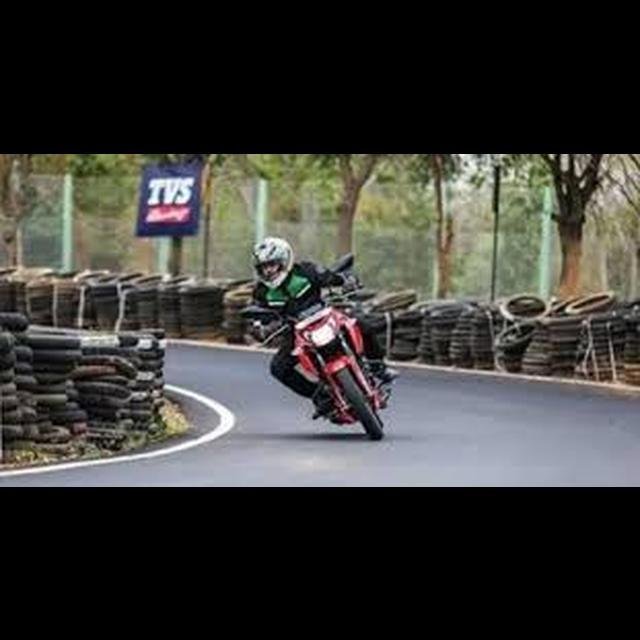motorcycle: (227, 246, 395, 445)
